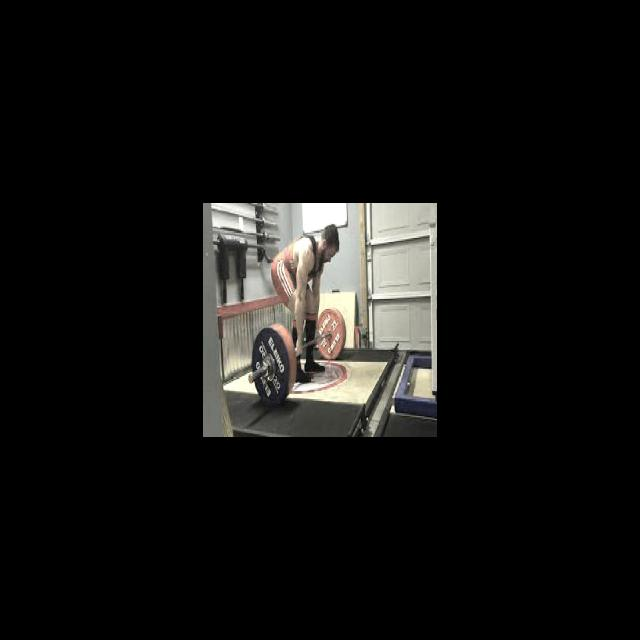barbell: (249, 324, 291, 409)
